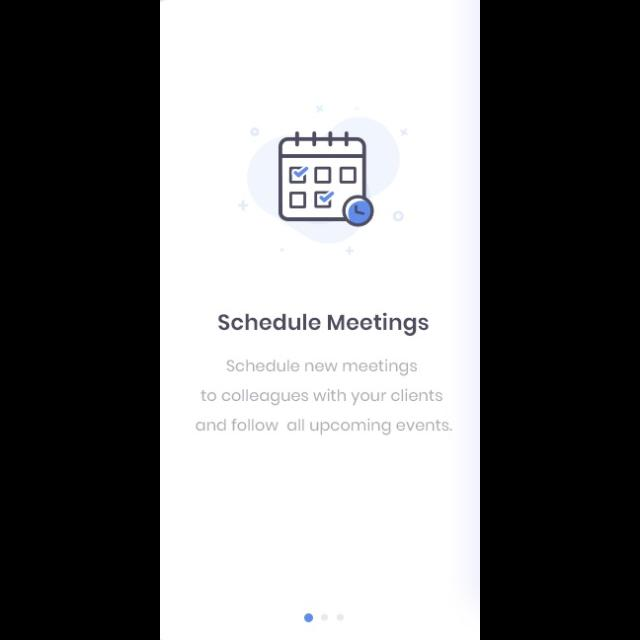image: (238, 106, 408, 256)
pageindicator: (304, 613, 344, 623)
text: (197, 358, 453, 436), (219, 314, 429, 336)
